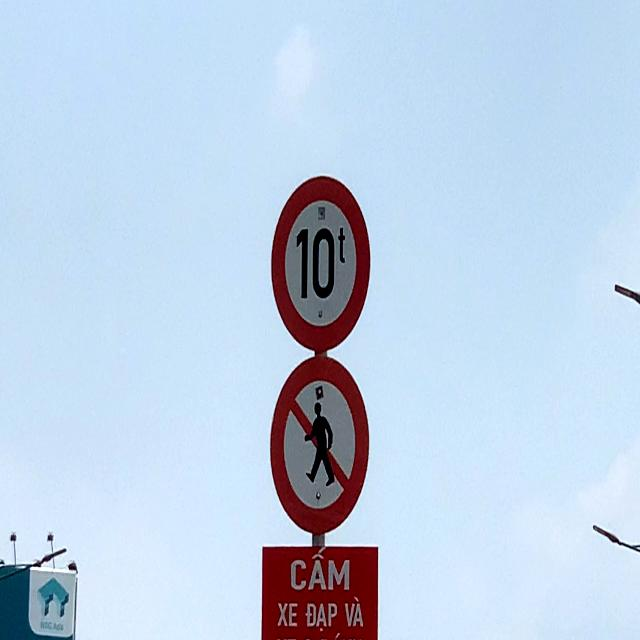P.112: (270, 355, 370, 536)
P.115: (270, 175, 370, 352)
